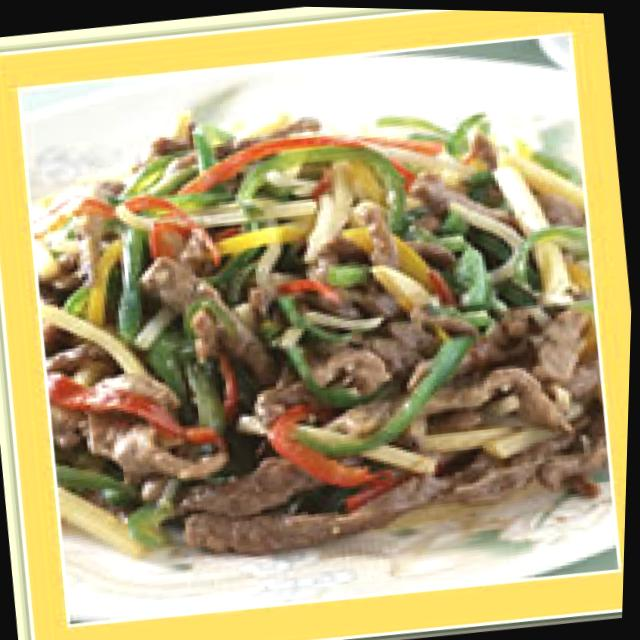牛肉菜式: (21, 63, 597, 577)
